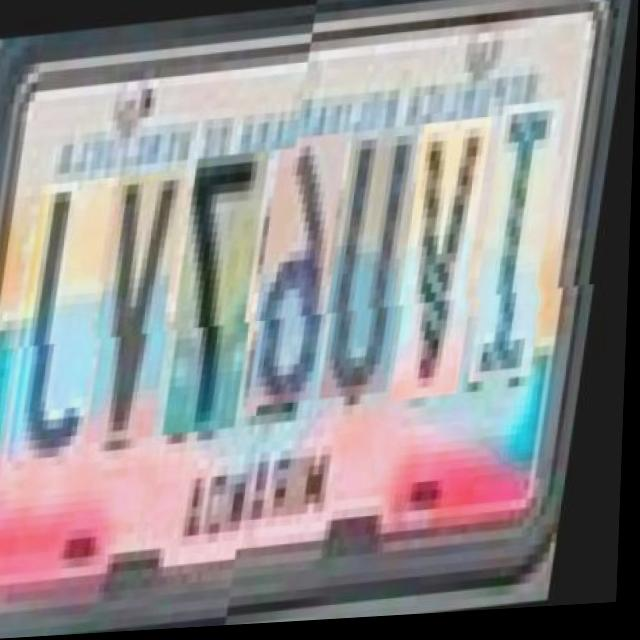6: (255, 144, 352, 417)
7: (170, 149, 275, 433)
i: (475, 115, 568, 397)
j: (15, 172, 120, 456)
u: (326, 138, 424, 410)
v: (397, 130, 496, 414), (94, 167, 192, 440)
